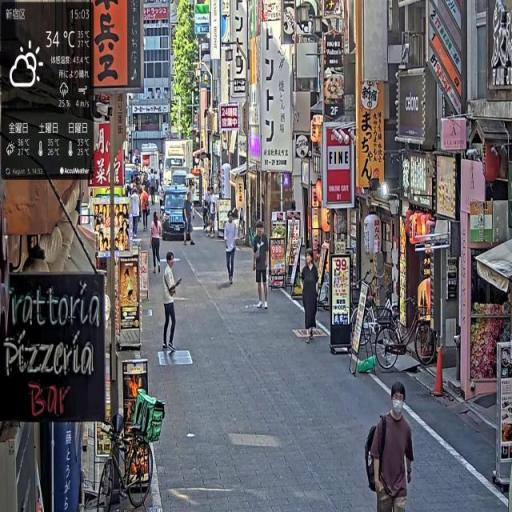person: (364, 380, 417, 512), (162, 251, 183, 356), (302, 250, 321, 343), (253, 220, 271, 311), (224, 210, 240, 287), (151, 212, 164, 275), (183, 191, 197, 248), (132, 185, 143, 240), (142, 186, 151, 231)
